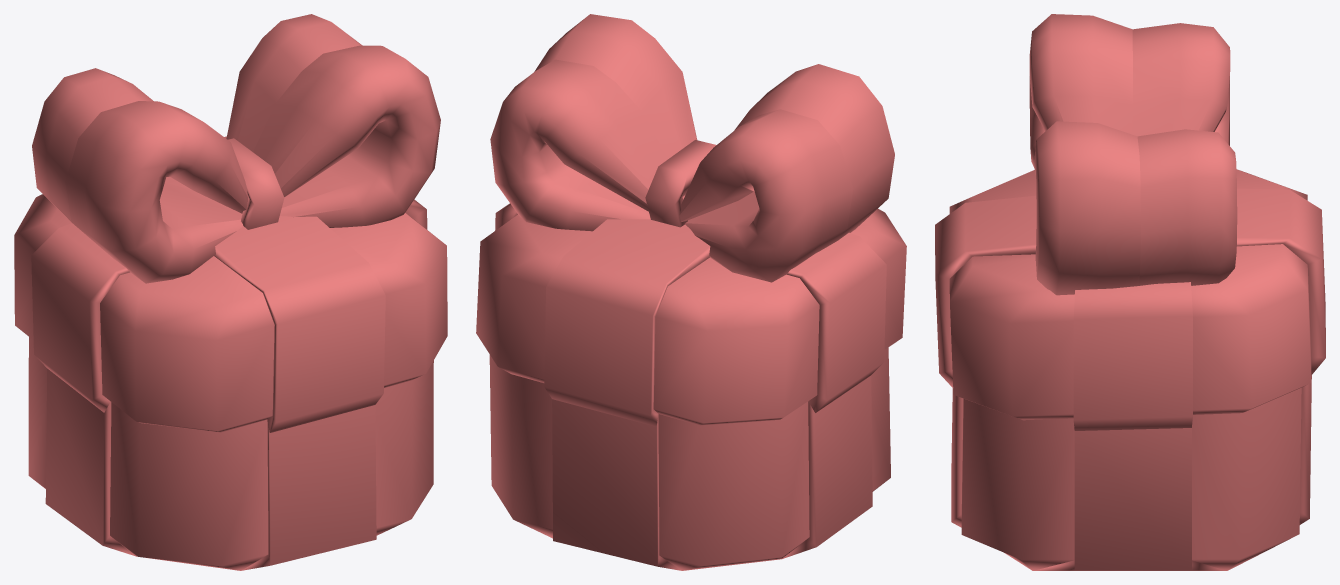
File: Mesh_Regalo_v001.fbx
3 renders of one model, left to right at view 1: azimuth 30°, elevation 25°; view 2: azimuth 150°, elevation 25°; view 3: azimuth 270°, elevation 25°, orthographic.
Visible parts, largest first — view 1: Mesh_Regalo_v001; view 2: Mesh_Regalo_v001; view 3: Mesh_Regalo_v001.
Boxes of the visible parts, x1,y1,x2,y2 form: Mesh_Regalo_v001: (14, 14, 447, 570); Mesh_Regalo_v001: (476, 14, 906, 570); Mesh_Regalo_v001: (935, 14, 1325, 570).
Bounding box in the file's own units: 1.94 × 2.36 × 1.92.
